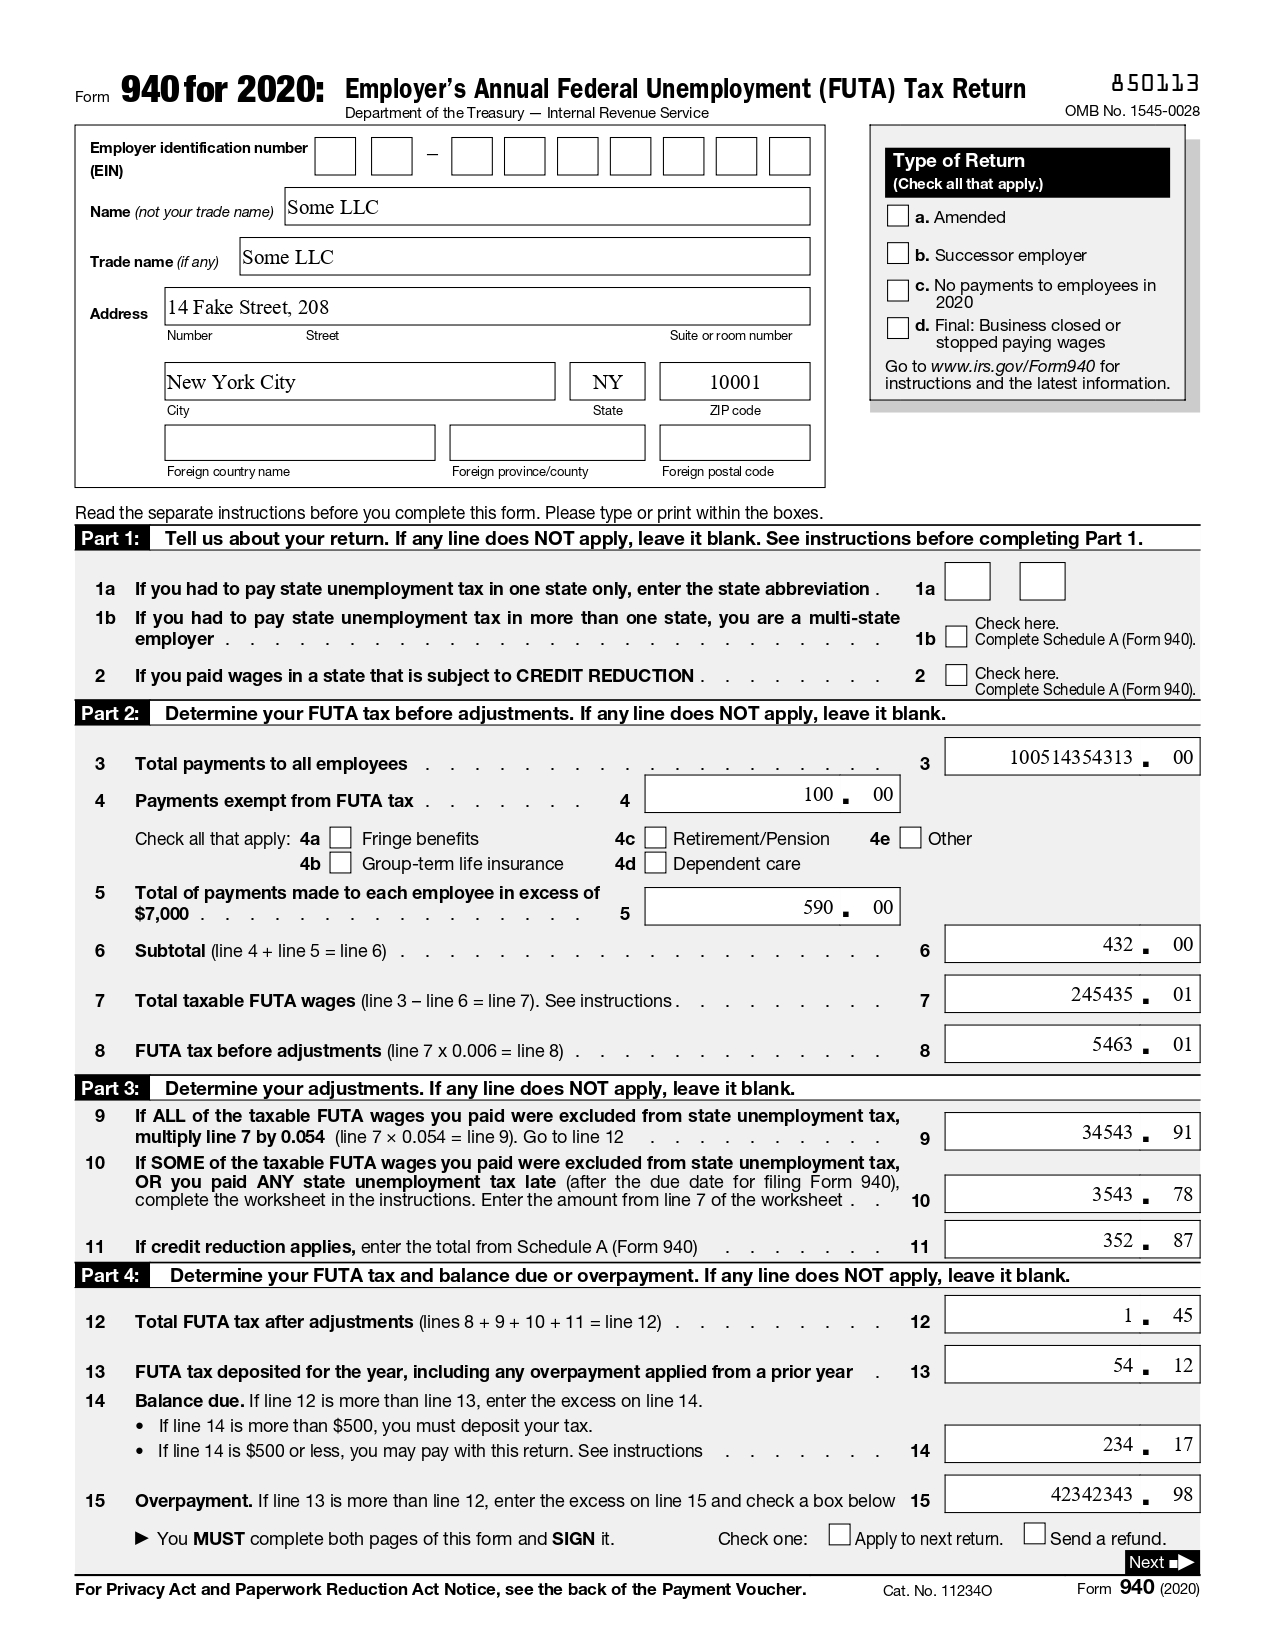form: (63, 120, 826, 489)
table: (70, 725, 1201, 1520)
